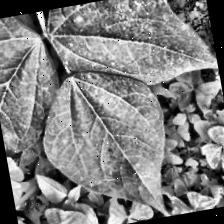ALS: (41, 64, 174, 224), (49, 0, 215, 110), (0, 11, 66, 158)
